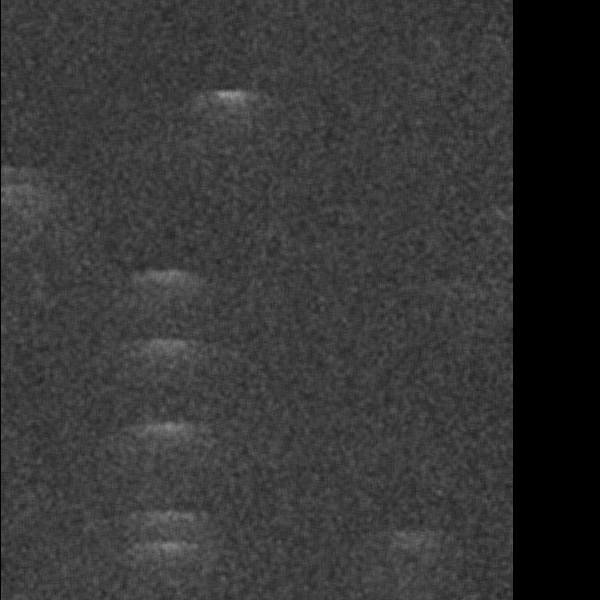spark: (261, 118, 364, 168), (66, 151, 124, 194)
